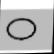no answer: (4, 16, 40, 43)
